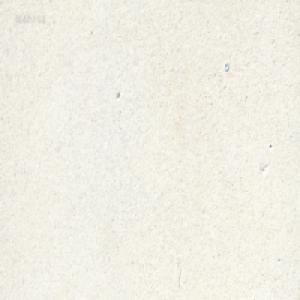Washer: (224, 62, 229, 73)
